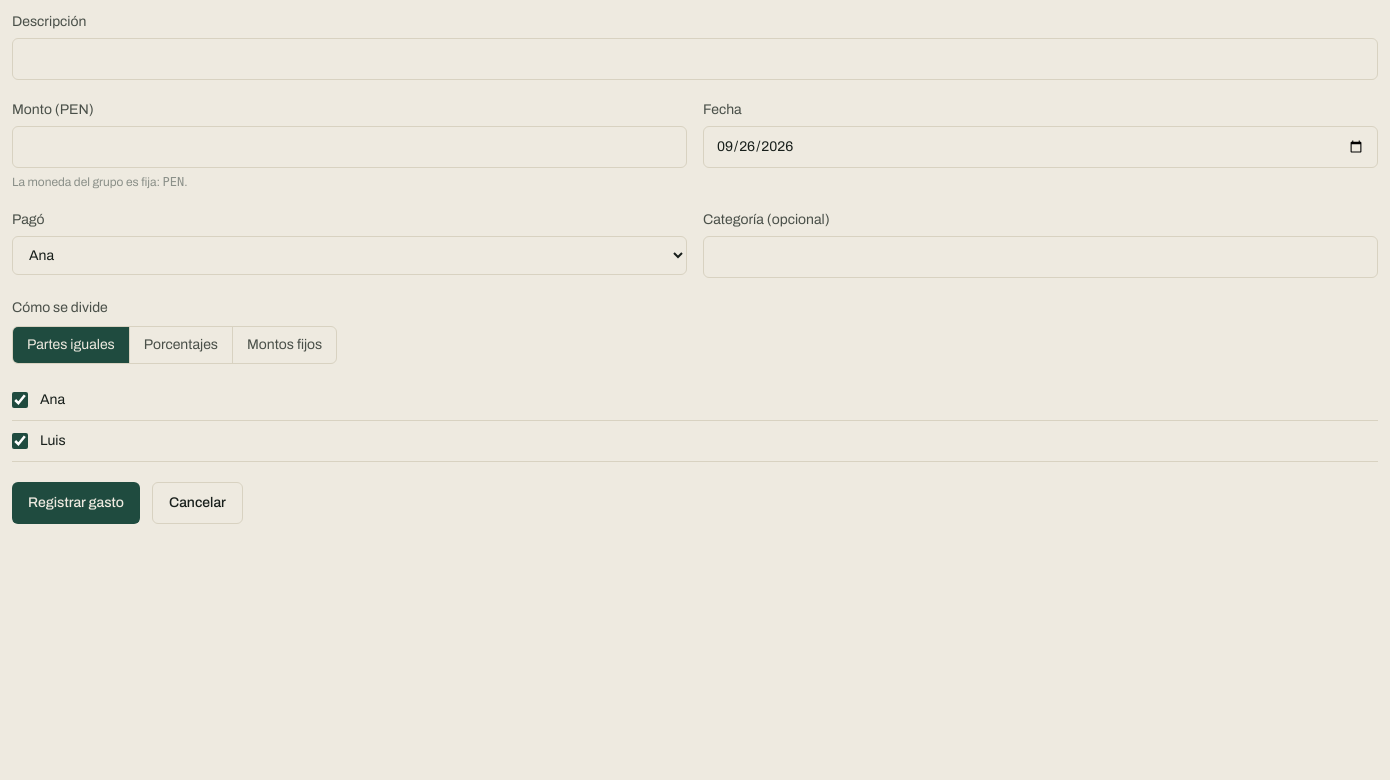
GastoForm › no envía si falta la descripción
Type "100" into the field labelled "Monto (PEN)". click: (350, 147)
box: x1=12 y1=126 x2=687 y2=168
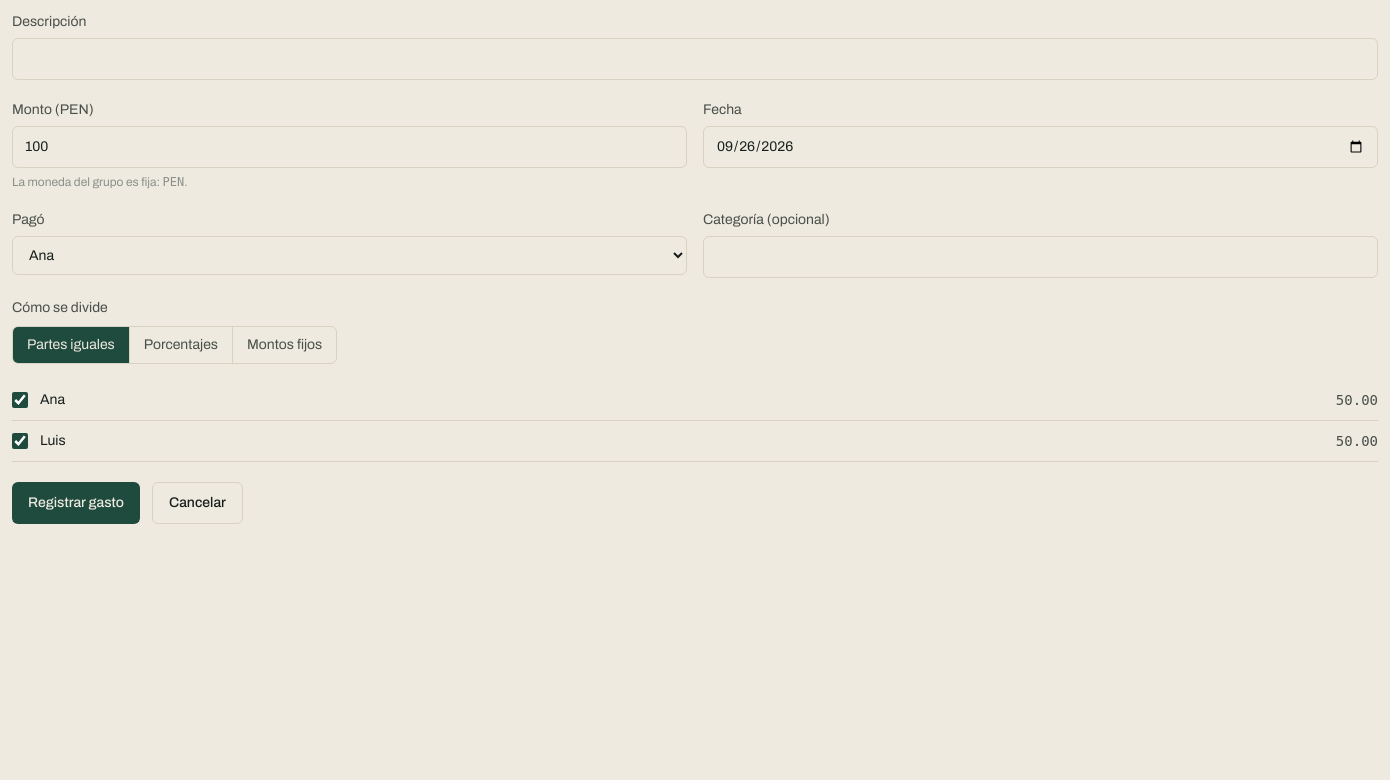
Click the button "Registrar gasto". click: (76, 503)
box: x1=12 y1=482 x2=140 y2=524
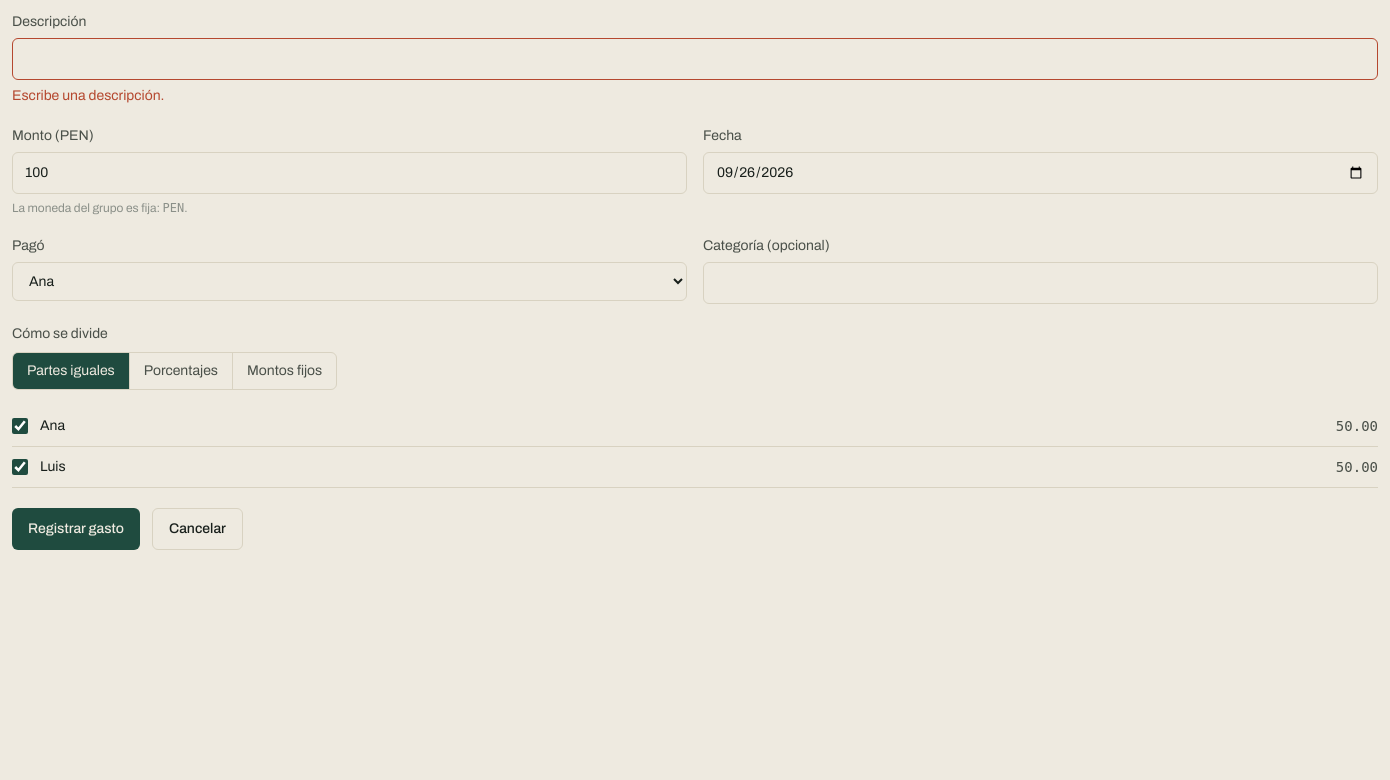
expect the text "Escribe una descripción." is shown: met, box x1=12 y1=88 x2=164 y2=103
